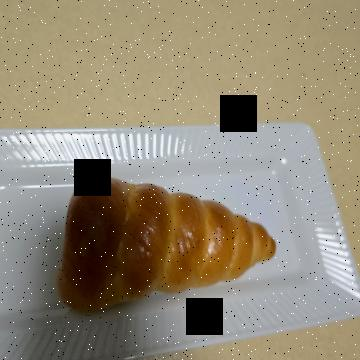cream horn: (144, 68, 340, 318)
